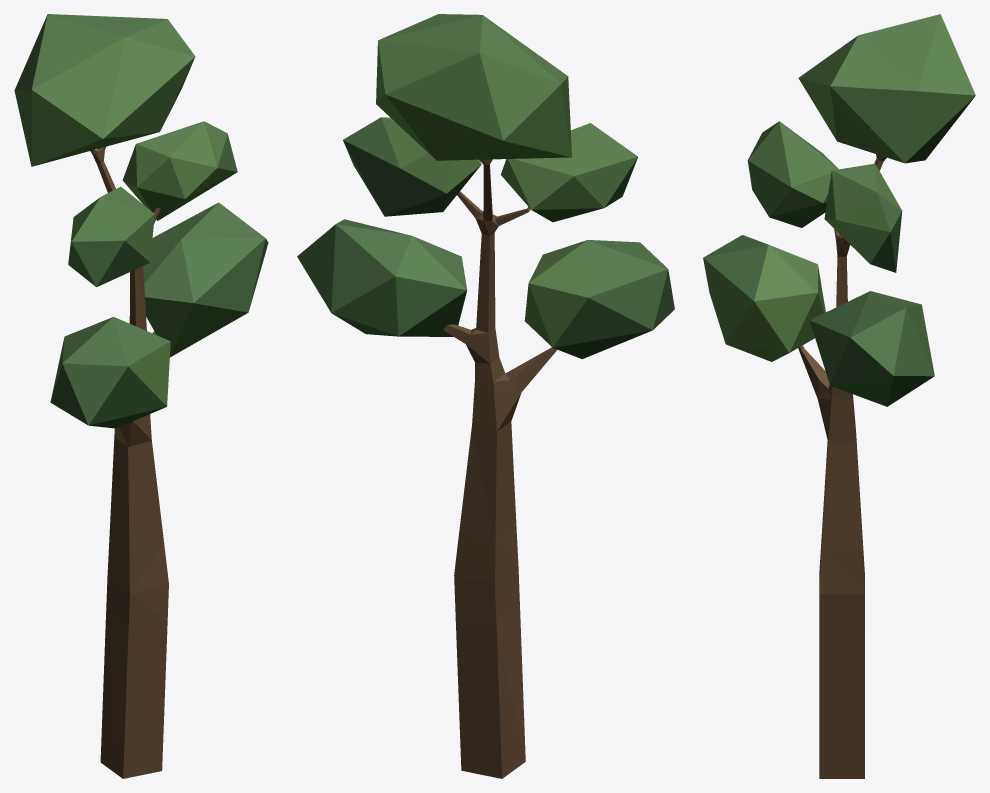
The model's file is Tree_04.glb.
3 renders of one model, left to right at view 1: azimuth 30°, elevation 25°; view 2: azimuth 150°, elevation 25°; view 3: azimuth 270°, elevation 25°, orthographic. The views are drawn at different scales.
Visible parts, largest first — view 1: Tree_04_LOD0; view 2: Tree_04_LOD0; view 3: Tree_04_LOD0.
Boxes of the visible parts, <box> form: Tree_04_LOD0: <box>14,14,268,778</box>; Tree_04_LOD0: <box>297,14,674,778</box>; Tree_04_LOD0: <box>703,14,975,778</box>.
Bounding box in the file's own units: 2.7 × 6.69 × 2.24.
